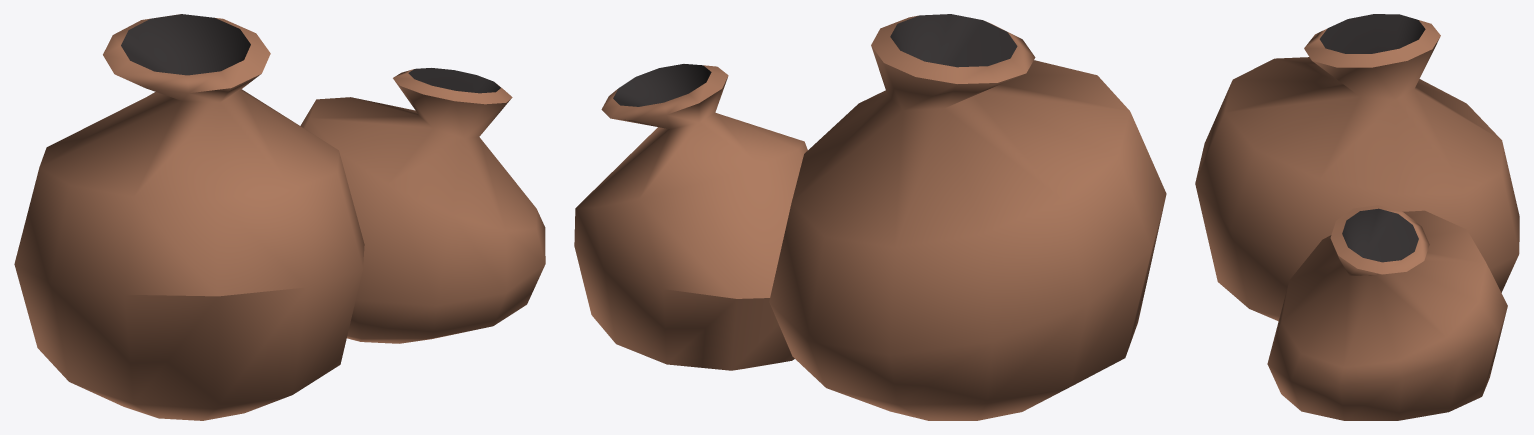
The model's file is jarro_2_pacote.glb.
3 renders of one model, left to right at view 1: azimuth 30°, elevation 25°; view 2: azimuth 150°, elevation 25°; view 3: azimuth 270°, elevation 25°, orthographic. The views are drawn at different scales.
Visible parts, largest first — view 1: jarro_2_pacote; view 2: jarro_2_pacote; view 3: jarro_2_pacote.
Part boxes in pixels (x1=…): jarro_2_pacote: x1=14, y1=14, x2=545, y2=420; jarro_2_pacote: x1=574, y1=14, x2=1166, y2=420; jarro_2_pacote: x1=1195, y1=14, x2=1519, y2=420.
Bounding box in the file's own units: 0.8036 × 0.5142 × 0.5334.
Materials: 1 (1 with a texture image).
